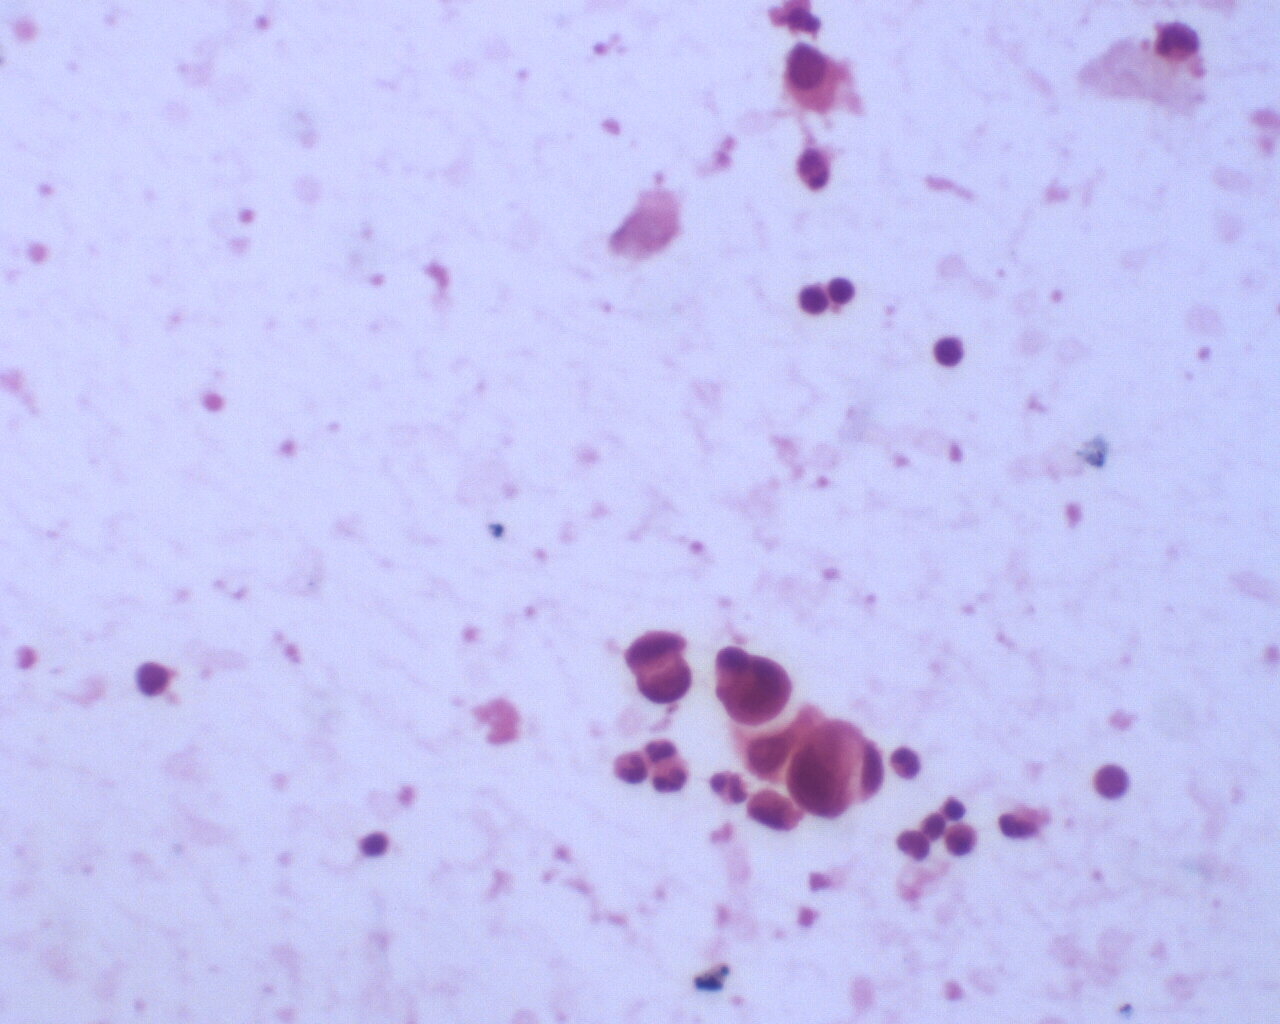ab: (709, 643, 793, 731), (774, 38, 850, 119)
lymph: (928, 331, 969, 374), (827, 270, 860, 306)
neutro: (651, 754, 691, 795), (708, 766, 748, 805), (887, 740, 921, 784), (614, 748, 649, 786)
